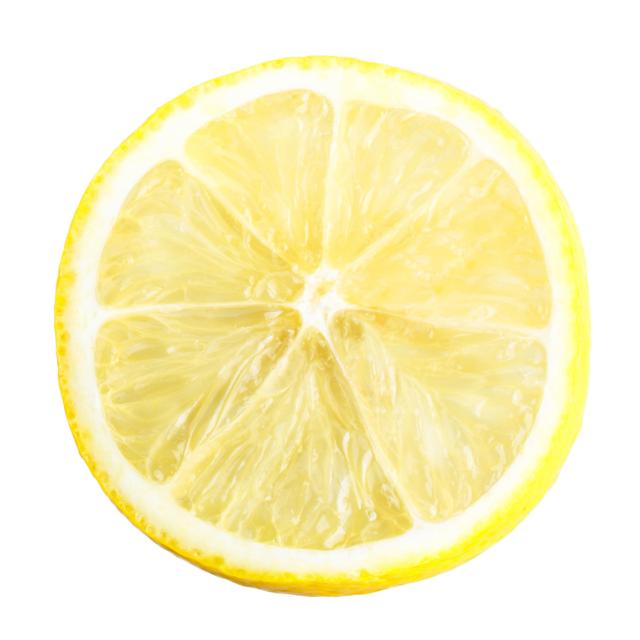lemon: (45, 42, 602, 605)
